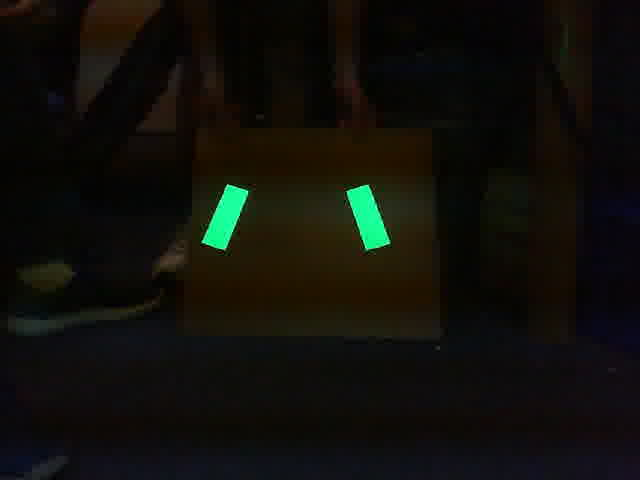target: (200, 183, 393, 253)
